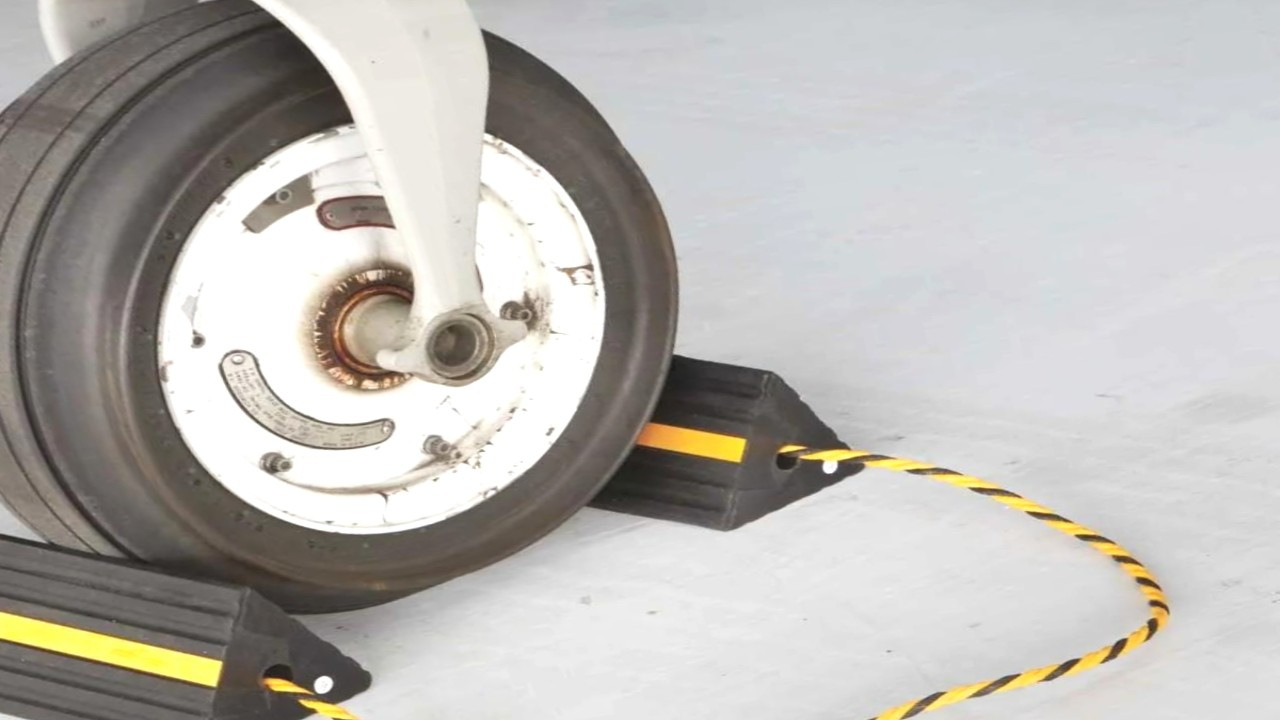chock: (340, 297, 883, 579), (0, 461, 410, 720)
wheel: (0, 0, 762, 649)
